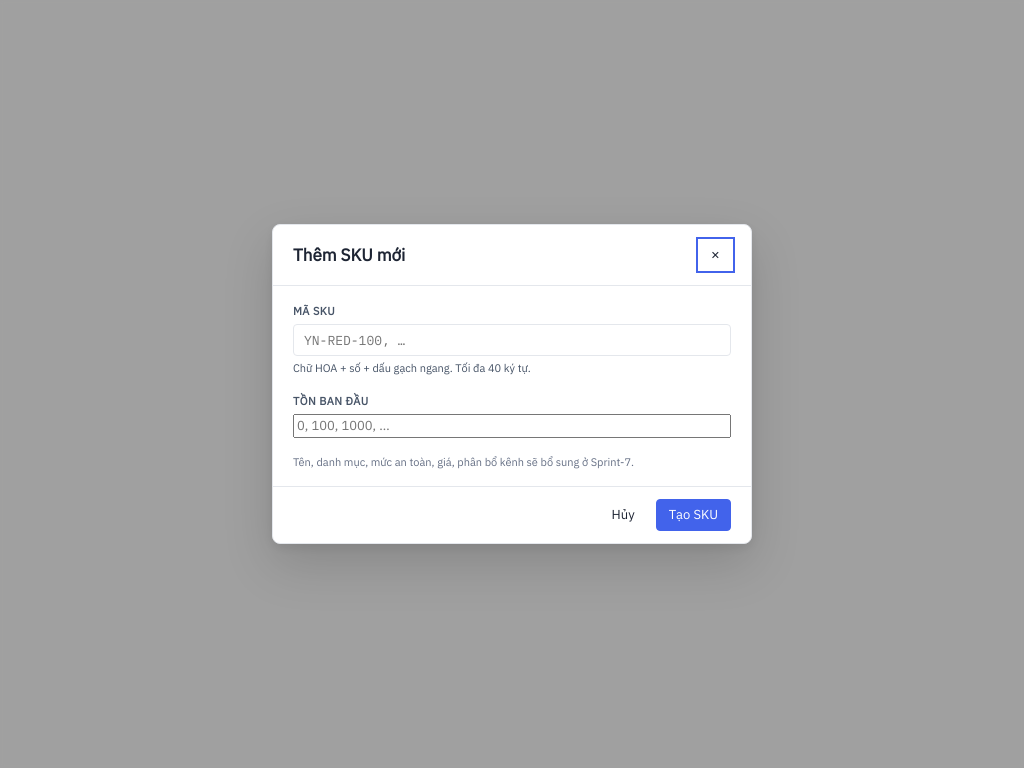
Test case: CreateSkuModal › submitting with an empty sku surfaces a required-field error
Type "100" into the number field with test id "create-sku-initial" at (512, 426), box [293,414,731,438]
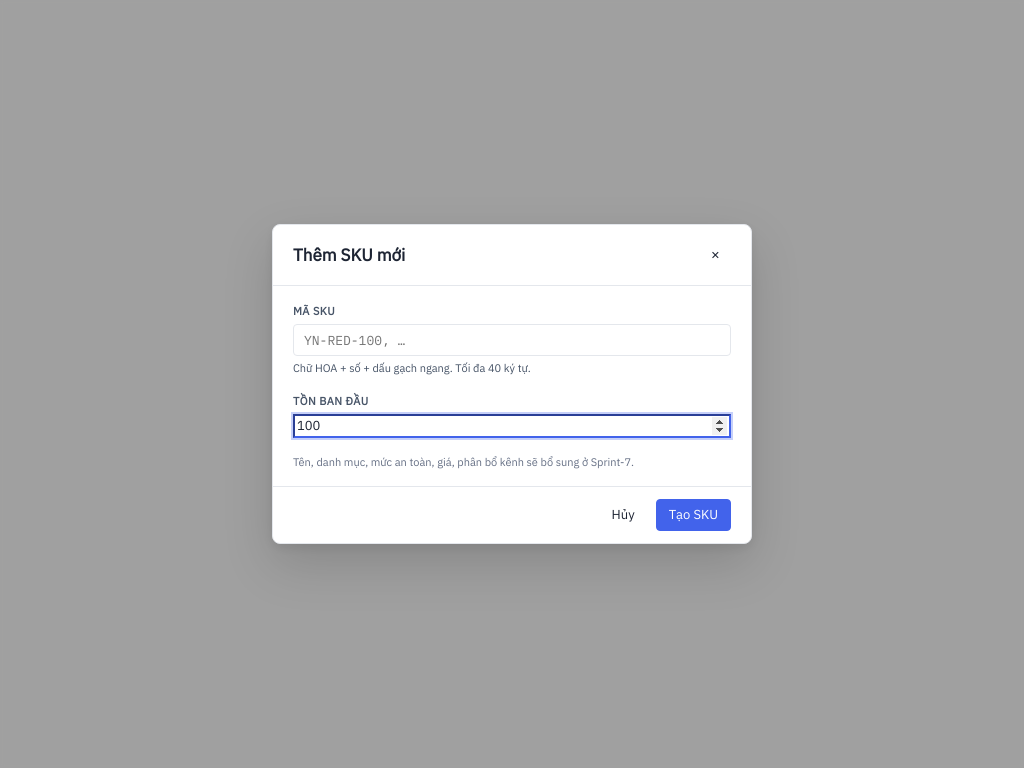
Click the button with test id "create-sku-submit" at (693, 515), box [656,499,731,531]
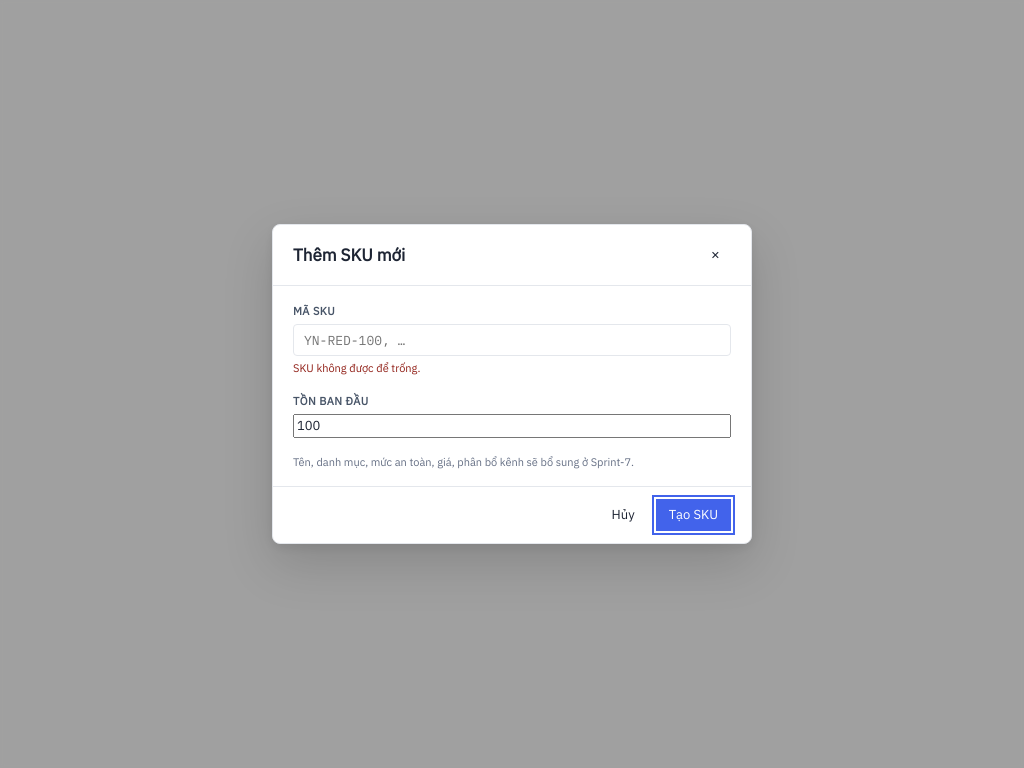
Expected: the message with test id "create-sku-sku-error" shows "không được để trống", [293,361,420,375]
